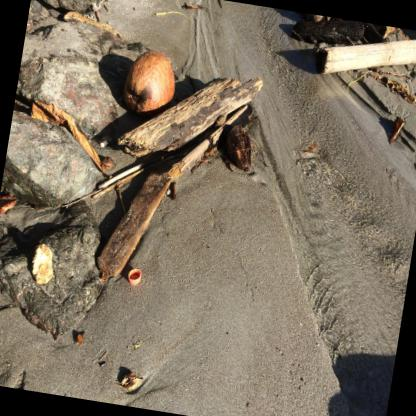Plastic bottle cap: (128, 268, 141, 284)
